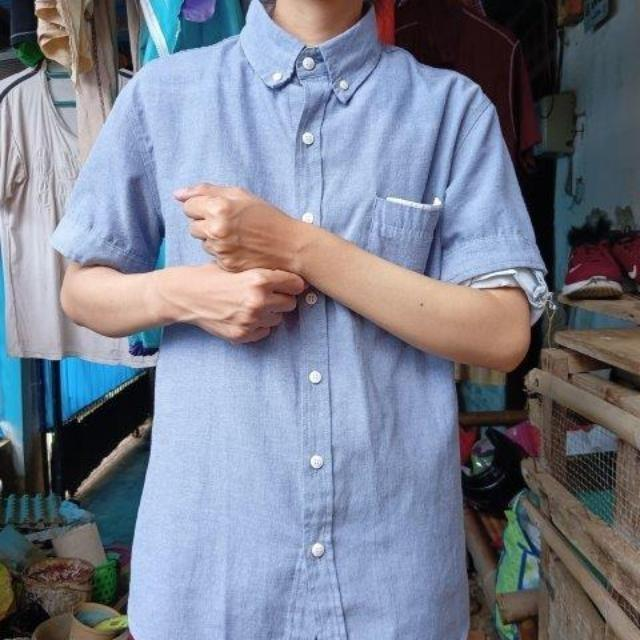G: (164, 175, 310, 347)
